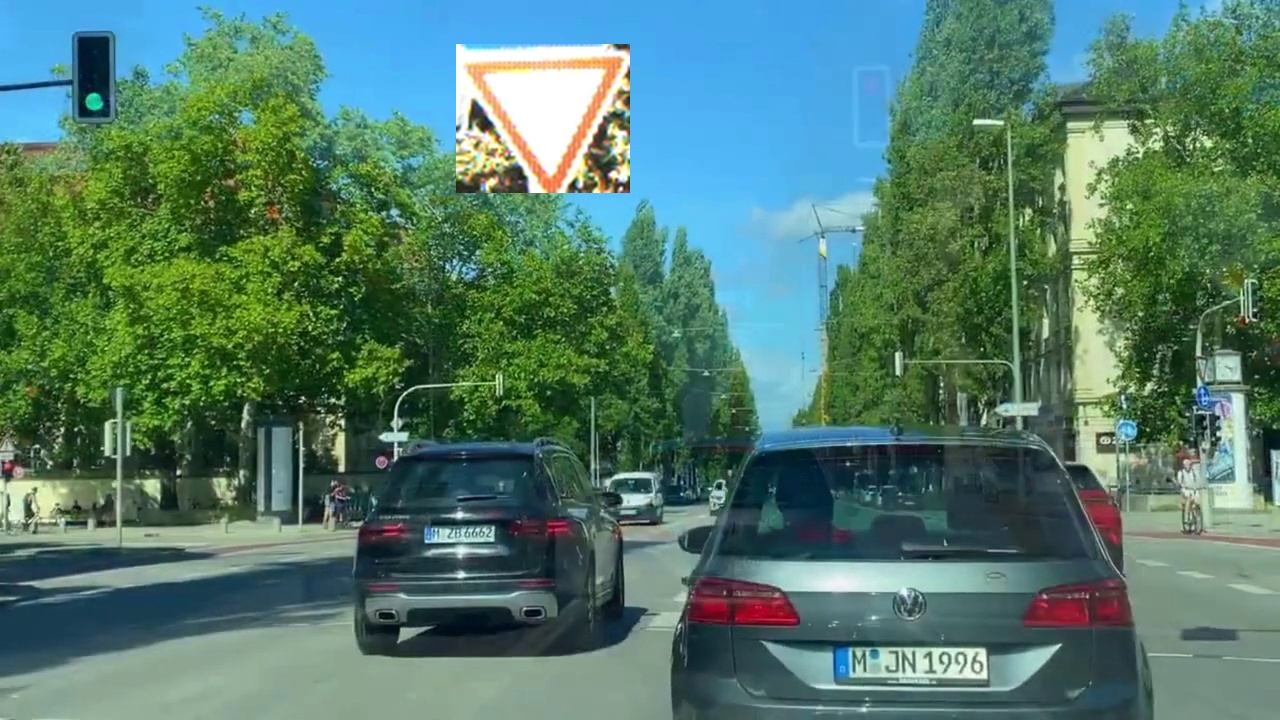Yield: (456, 44, 630, 193)
